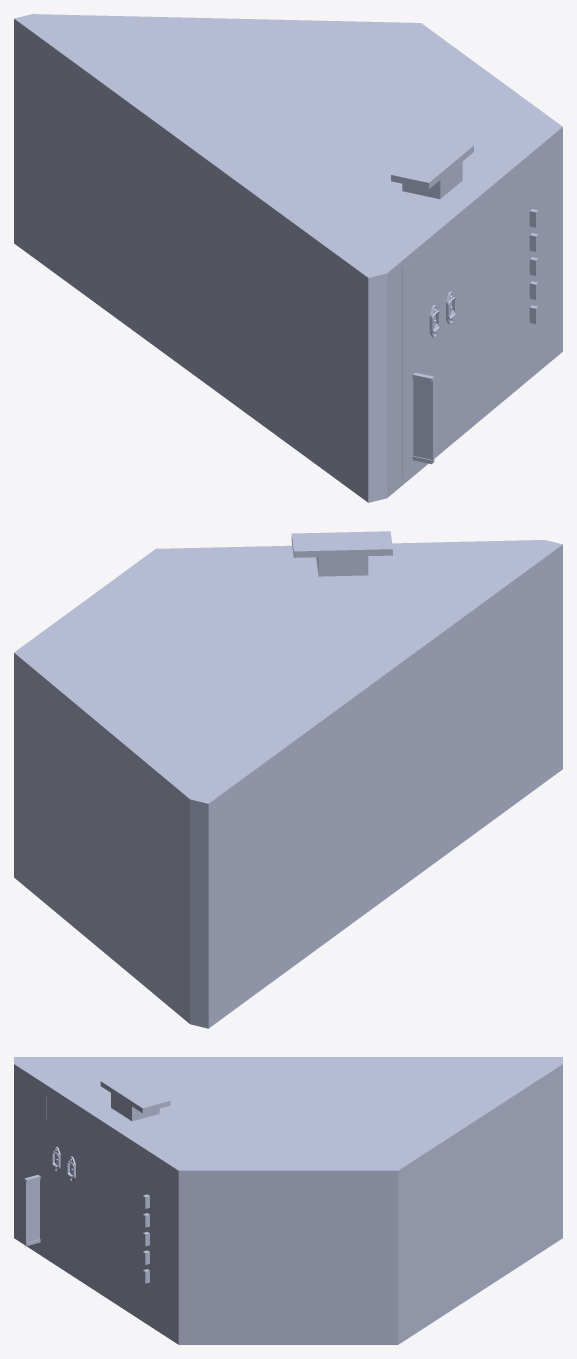
File: maintenance_panel.glb
3 views of the same model, one above another, from view 1: azimuth 30°, elevation 25°; view 2: azimuth 150°, elevation 25°; view 3: azimuth 270°, elevation 25° (orthographic). The views are drawn at different scales.
Visible parts, largest first — view 1: maintenance_panel; view 2: maintenance_panel; view 3: maintenance_panel.
Boxes of the visible parts, x1=… form: maintenance_panel: x1=14, y1=14, x2=562, y2=502; maintenance_panel: x1=14, y1=531, x2=562, y2=1028; maintenance_panel: x1=14, y1=1057, x2=562, y2=1344.
Size of the model in its own units: 0.49 by 0.39 by 1.
